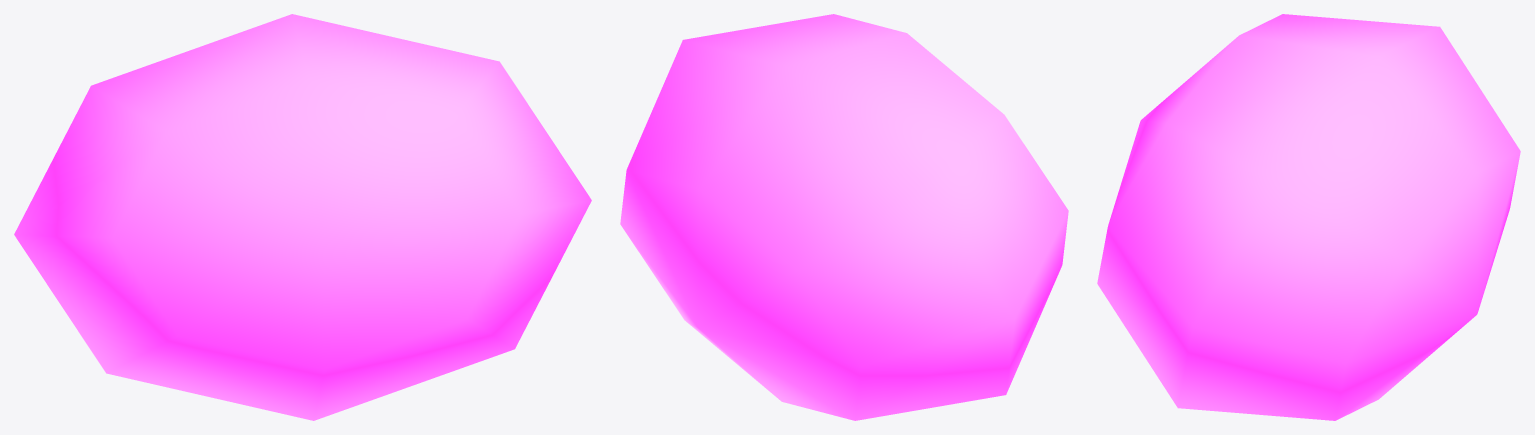
3 views of the same model, side by side, from view 1: azimuth 30°, elevation 25°; view 2: azimuth 150°, elevation 25°; view 3: azimuth 270°, elevation 25° (orthographic).
Parts seen in each view (by area): view 1: Sphere221_Material_0_0; view 2: Sphere221_Material_0_0; view 3: Sphere221_Material_0_0.
Boxes of the visible parts, x1=… form: Sphere221_Material_0_0: x1=14, y1=14, x2=591, y2=420; Sphere221_Material_0_0: x1=620, y1=14, x2=1068, y2=420; Sphere221_Material_0_0: x1=1097, y1=14, x2=1520, y2=420.
Size of the model in its own units: 0.0262 by 0.0187 by 0.0208.
1 material, 1 textured.
